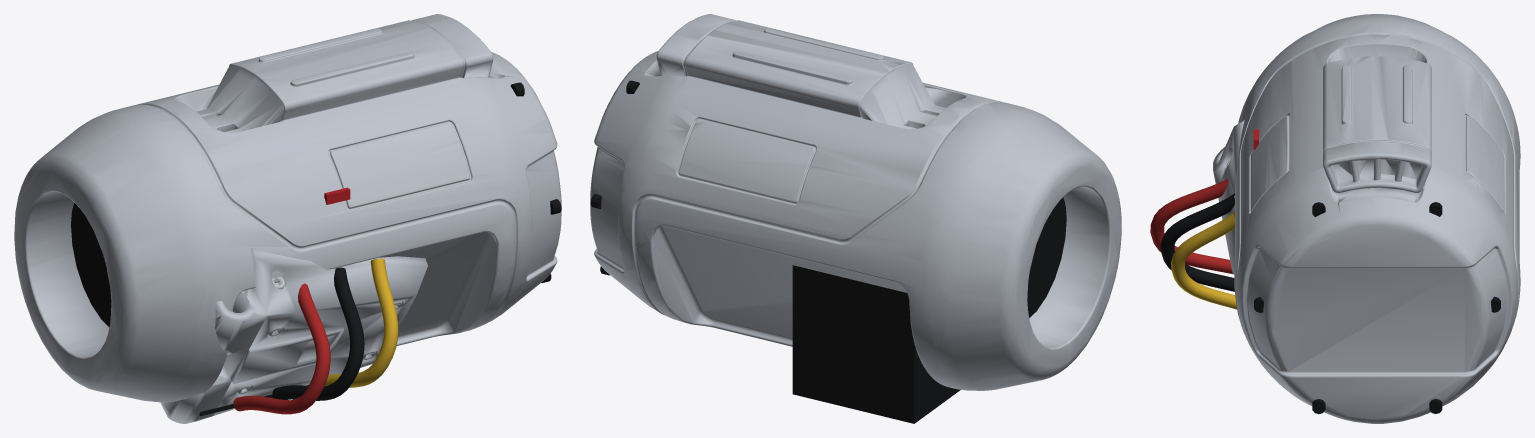
The model's file is left_weapon_pod.obj.
3 renders of one model, left to right at view 1: azimuth 30°, elevation 25°; view 2: azimuth 150°, elevation 25°; view 3: azimuth 270°, elevation 25°, orthographic. The views are drawn at different scales.
Visible parts, largest first — view 1: left_weapon_pod_M_silver, left_weapon_pod_M_black, left_weapon_pod_M_cable_r, left_weapon_pod_M_cable_y; view 2: left_weapon_pod_M_silver, left_weapon_pod_M_black; view 3: left_weapon_pod_M_silver, left_weapon_pod_M_black, left_weapon_pod_M_cable_y, left_weapon_pod_M_cable_r.
Boxes of the visible parts, <box> form: left_weapon_pod_M_silver: <box>14,14,561,423</box>; left_weapon_pod_M_black: <box>71,82,561,415</box>; left_weapon_pod_M_cable_r: <box>233,283,330,414</box>; left_weapon_pod_M_cable_y: <box>325,258,398,387</box>; left_weapon_pod_M_silver: <box>590,14,1121,390</box>; left_weapon_pod_M_black: <box>590,80,1066,423</box>; left_weapon_pod_M_silver: <box>1213,14,1520,423</box>; left_weapon_pod_M_black: <box>1160,193,1500,414</box>; left_weapon_pod_M_cable_y: <box>1171,212,1237,309</box>; left_weapon_pod_M_cable_r: <box>1150,179,1233,274</box>.
Bounding box in the file's own units: 0.5737 × 0.3675 × 0.4272.
